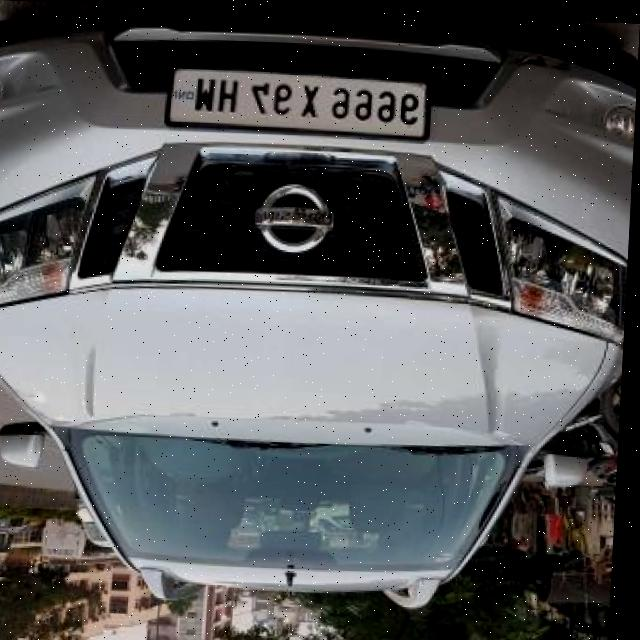plate: (167, 66, 433, 137)
